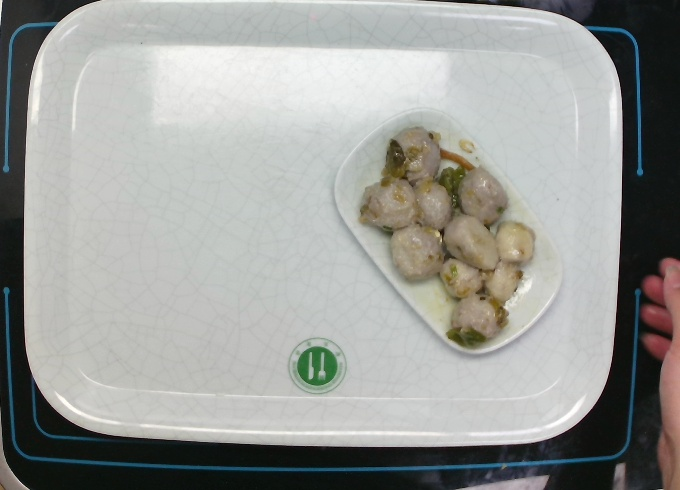WCQzf-Tuo_Yuan_Pan: (328, 102, 569, 358)
